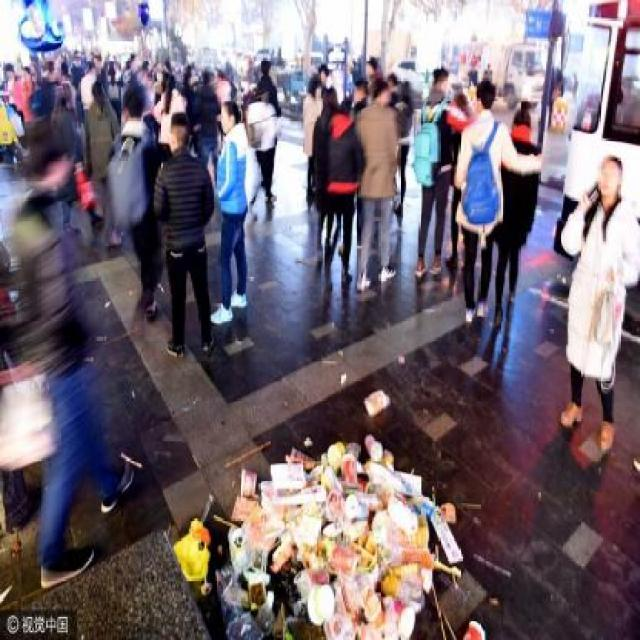garbage: (231, 441, 460, 640), (168, 506, 232, 592), (359, 378, 399, 414), (460, 609, 488, 639)
